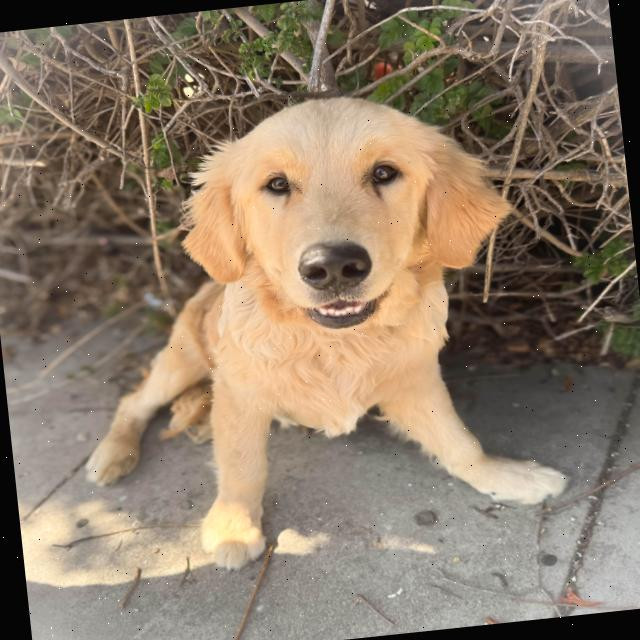golden_retriever_dog: (144, 70, 536, 364)
